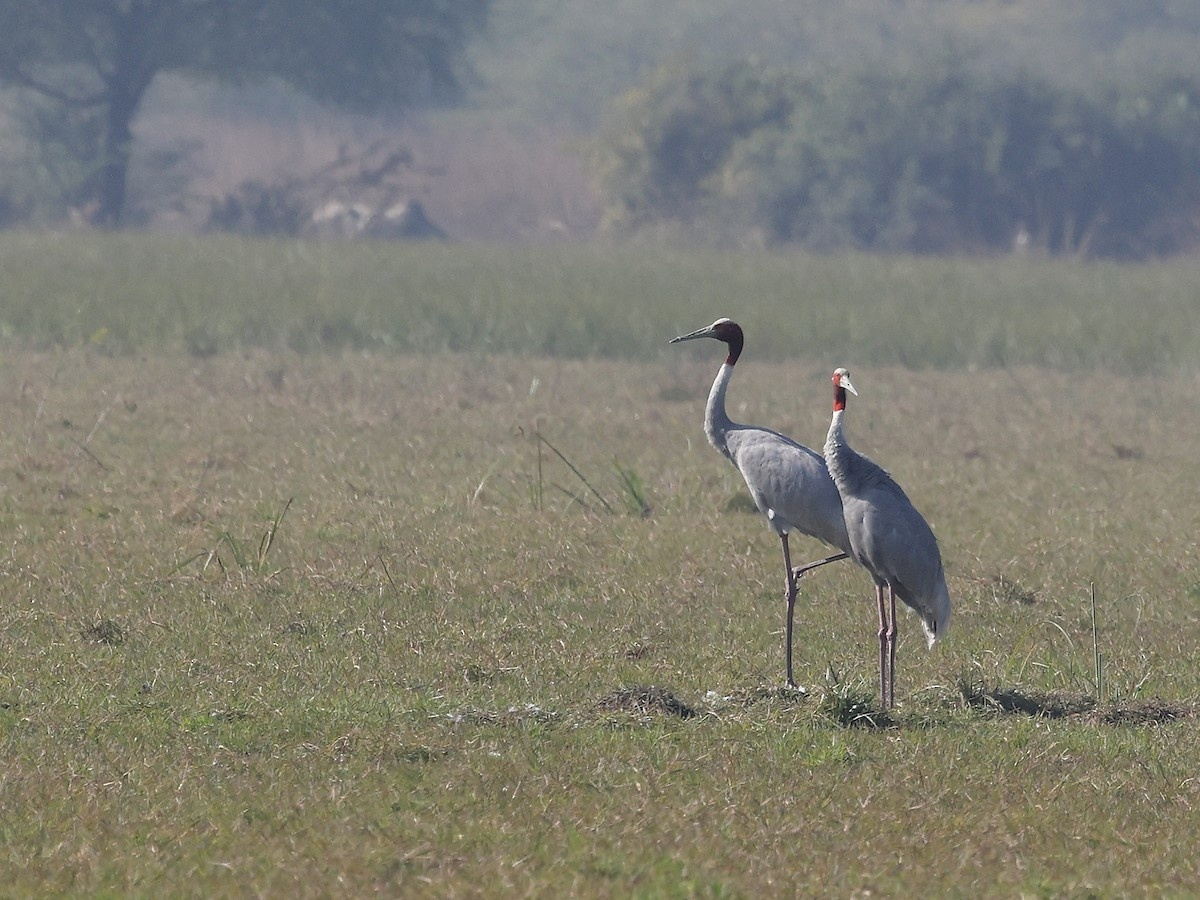crane: (662, 297, 828, 642), (818, 354, 957, 730)
